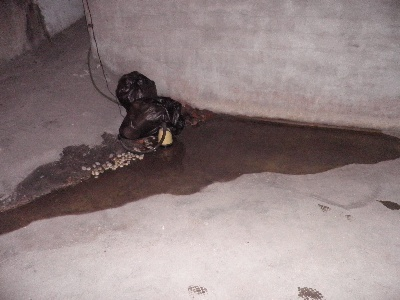plastic_bag: (118, 97, 185, 141), (117, 71, 159, 110)
